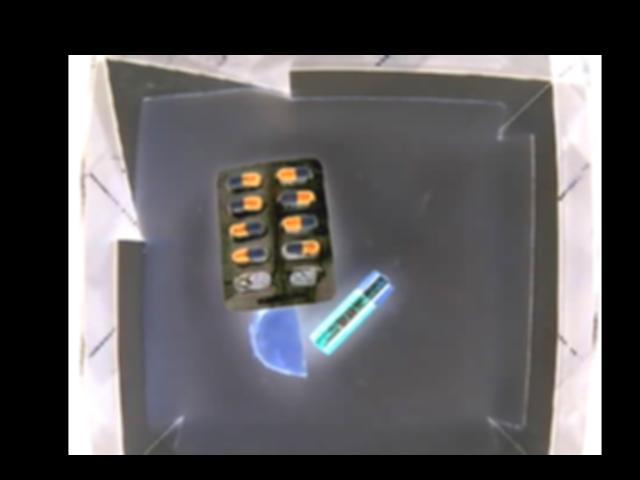Battery: (310, 271, 393, 355)
Medicine: (220, 157, 330, 314)
Potato: (250, 304, 303, 378)
